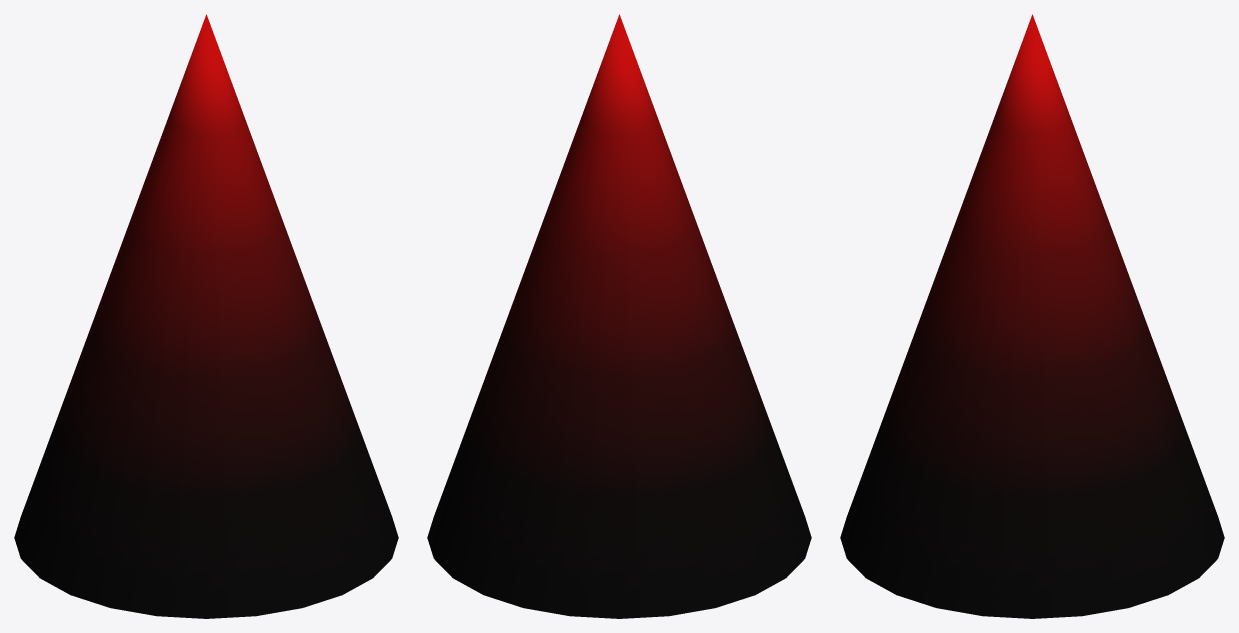
Rendered from SM_FlashLight_LightCone.FBX.
The picture shows the model from 3 angles, left to right: view 1: azimuth 30°, elevation 25°; view 2: azimuth 150°, elevation 25°; view 3: azimuth 270°, elevation 25°; orthographic projection.
Visible parts, largest first — view 1: SM_FlashLight_LightCone; view 2: SM_FlashLight_LightCone; view 3: SM_FlashLight_LightCone.
Part boxes in pixels (box(x1,y1,x2,y2)): SM_FlashLight_LightCone: box(14, 14, 398, 618); SM_FlashLight_LightCone: box(427, 14, 811, 618); SM_FlashLight_LightCone: box(840, 14, 1224, 618).
Bounding box in the file's own units: 75.18 × 75.18 × 113.
